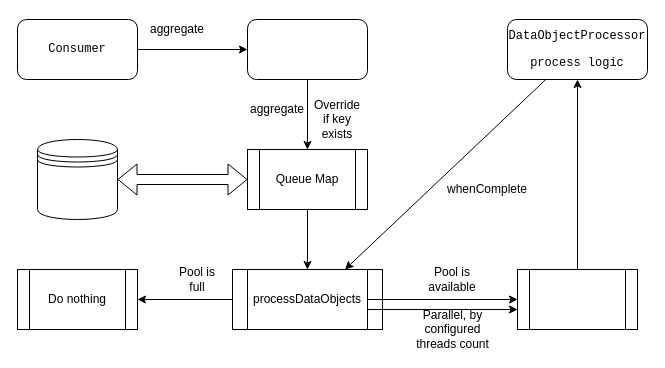
Some shapes in this 665 by 368 pixel diagram are drawn without their labels. The shapes that lost their labels are listed below. From the top down, each one's box as (x1, y1, x2, y2) in pixels, then its label:
(246, 18, 368, 80): DataProcessor
(36, 138, 118, 220): ETCD
(516, 268, 638, 330): RetryExecutor
